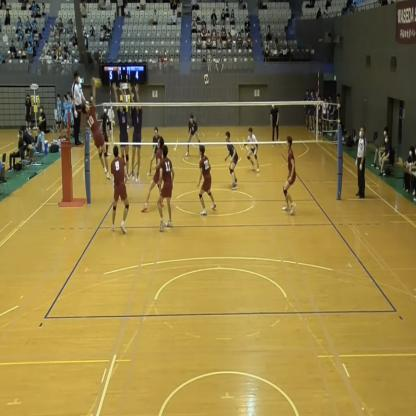spike: (81, 75, 113, 183)
